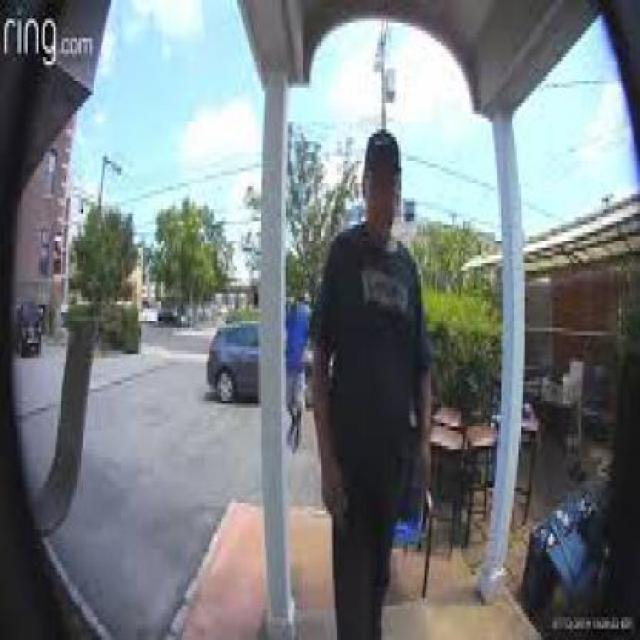person: (314, 123, 445, 640)
